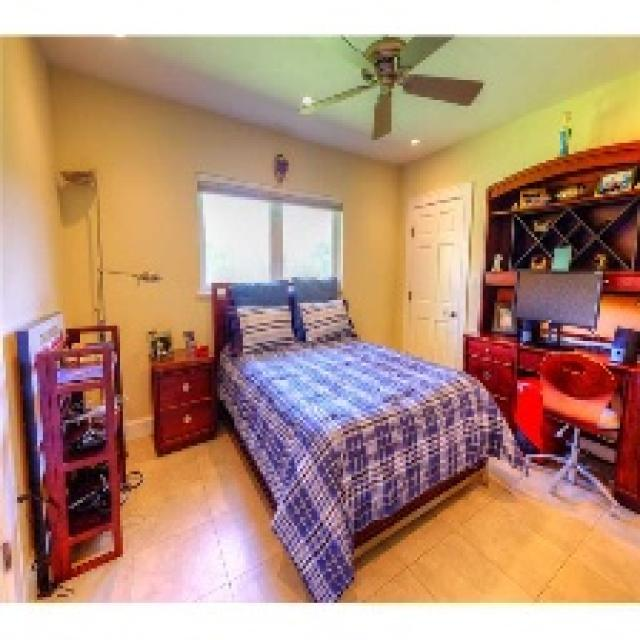Bed: (208, 277, 526, 600)
